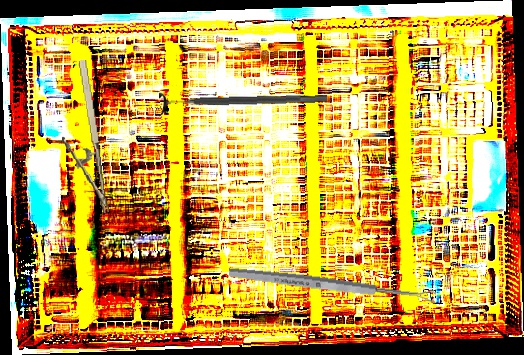Fixation Ring: (158, 85, 328, 118)
Needle Holder: (52, 59, 110, 217)
Surgical Spoon: (227, 265, 437, 305)
